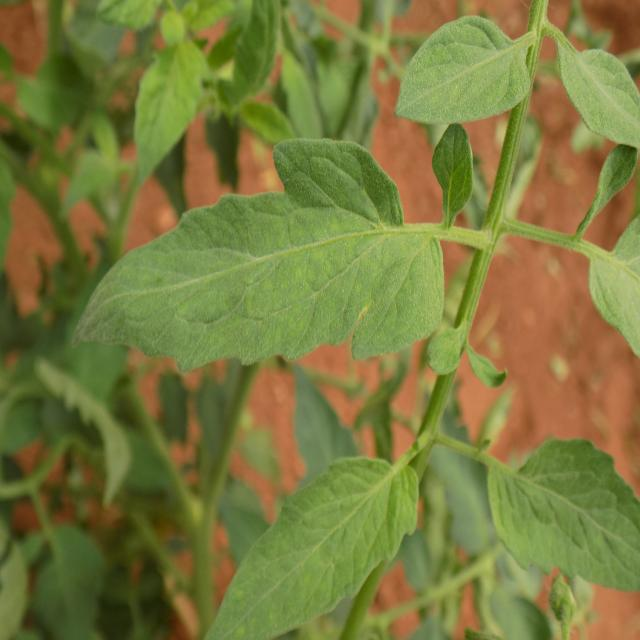tomato_healthy: (69, 133, 452, 364), (200, 452, 422, 640), (388, 13, 540, 126), (276, 141, 402, 259)
